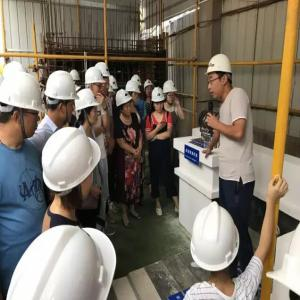white: (43, 126, 99, 208), (189, 201, 242, 277), (3, 72, 43, 143), (47, 70, 76, 122), (206, 53, 234, 100), (76, 89, 100, 126), (85, 67, 104, 99), (98, 62, 111, 93), (117, 91, 133, 116), (163, 80, 178, 105), (153, 88, 166, 114), (127, 80, 140, 103), (145, 80, 155, 98)
